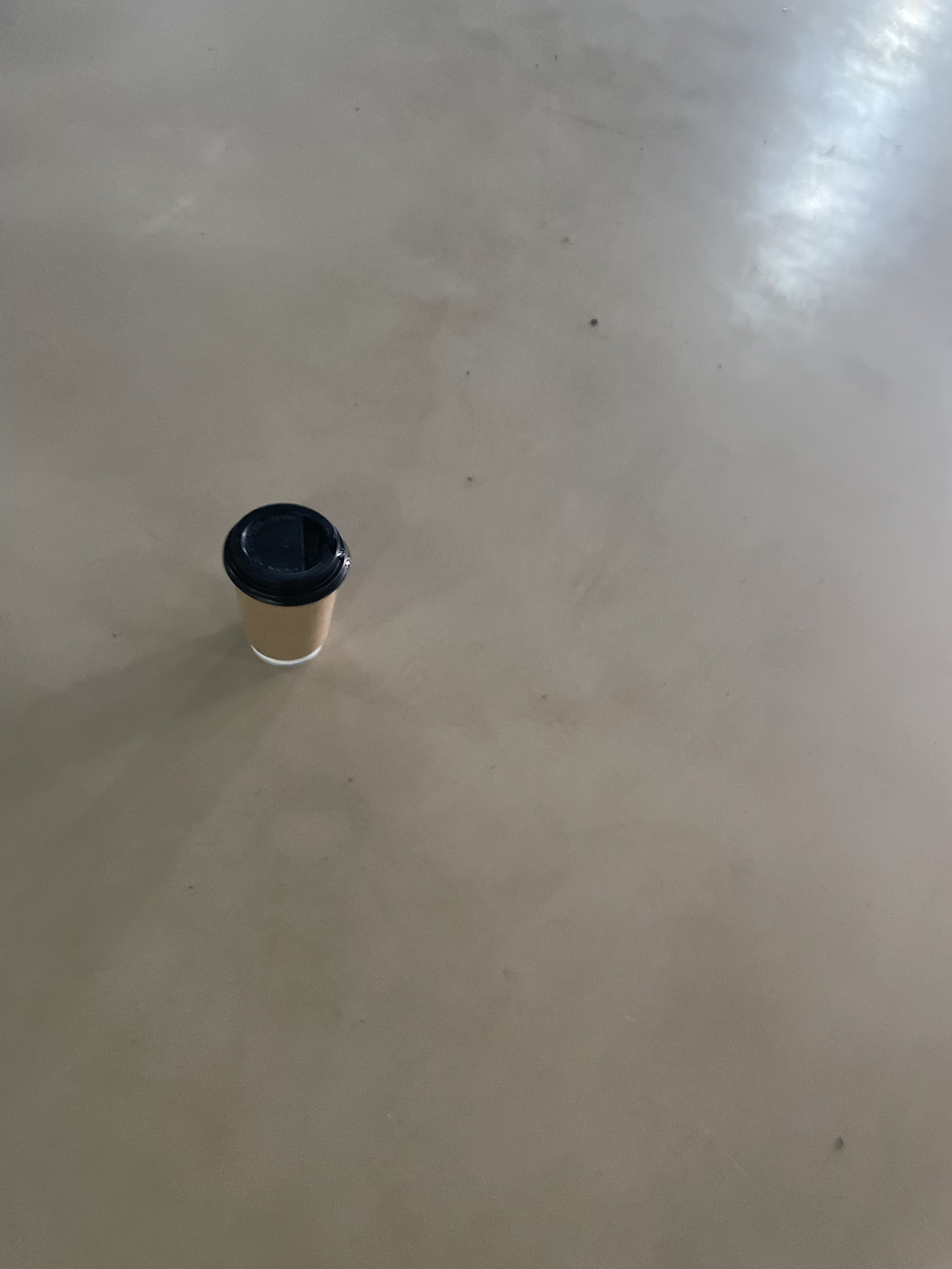cup: (222, 503, 351, 666)
